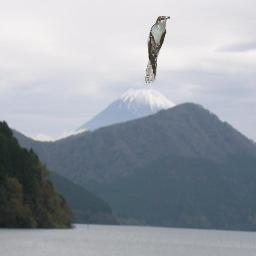Cuckoo: (145, 15, 170, 83)
